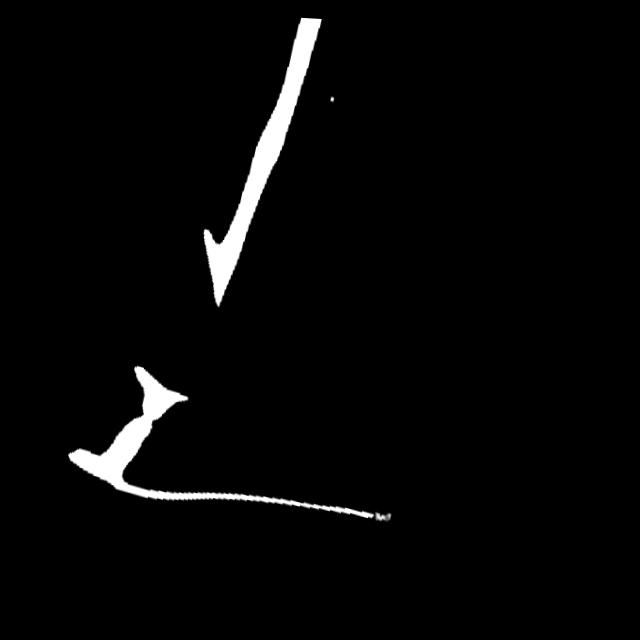stp: (362, 499, 393, 524)
